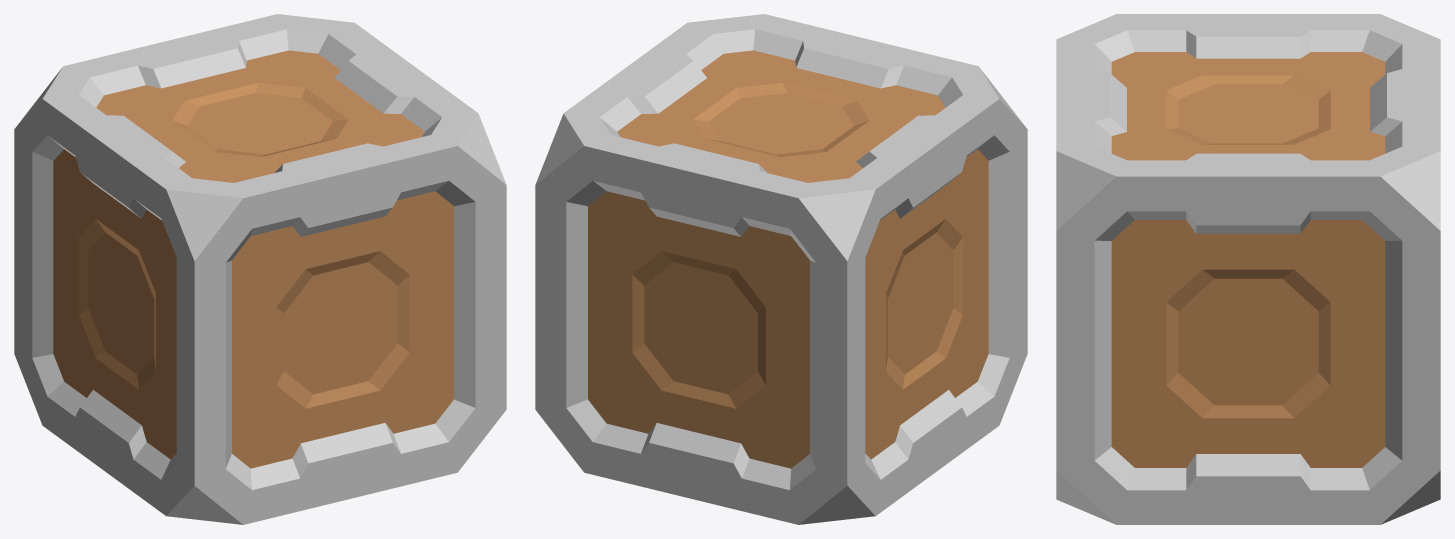
File: crate orange small.fbx
3 renders of one model, left to right at view 1: azimuth 30°, elevation 25°; view 2: azimuth 150°, elevation 25°; view 3: azimuth 270°, elevation 25°, orthographic. The views are drawn at different scales.
Parts seen in each view (by area): view 1: Crate Small; view 2: Crate Small; view 3: Crate Small.
Part boxes in pixels (x1,y1,x2,y2): Crate Small: [14, 14, 506, 524]; Crate Small: [535, 14, 1027, 524]; Crate Small: [1056, 14, 1440, 524].
Size of the model in its own units: 50 by 50 by 50.
